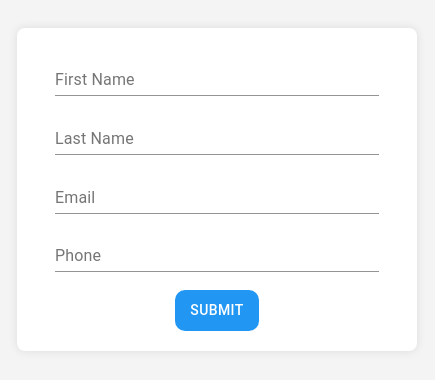
Test: Form Component › displays validation error message for missing fields
The image size is (435, 380).
Click the button "Submit".
click(217, 311)  # box [175, 290, 259, 331]
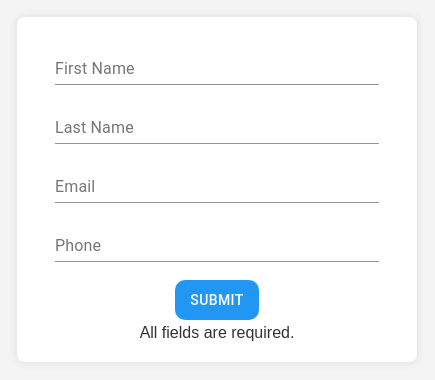
Expected: the text "All fields are required." is shown, [140, 324, 294, 342]
